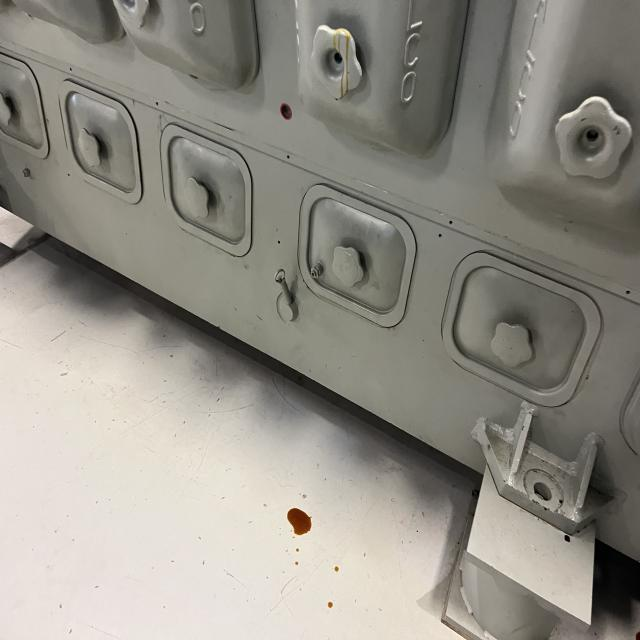Oil Leak: (332, 28, 356, 99), (284, 503, 316, 538), (333, 566, 340, 572), (328, 602, 333, 608), (294, 561, 298, 565), (296, 548, 299, 552)
